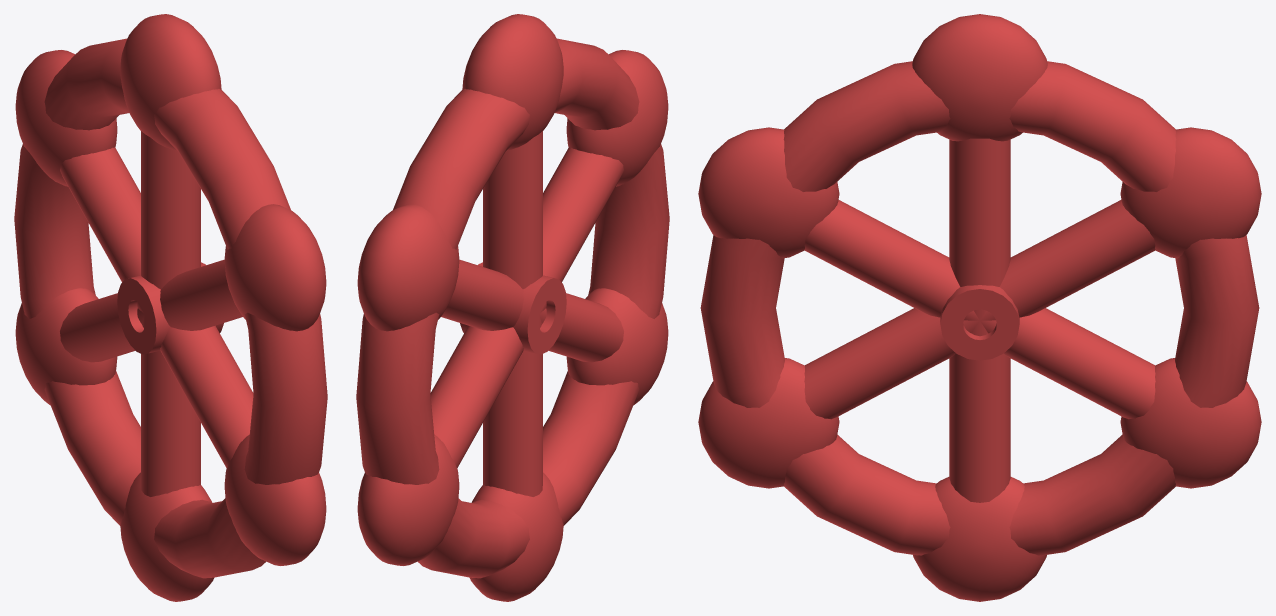
Rendered from Valve.fbx.
3 views of the same model, side by side, from view 1: azimuth 30°, elevation 25°; view 2: azimuth 150°, elevation 25°; view 3: azimuth 270°, elevation 25° (orthographic).
Visible parts, largest first — view 1: pTorus1, pCylinder2, pCylinder3, pSphere5, pSphere1, pSphere6, pCylinder1, pSphere4, pSphere3, pSphere7, pPipe1; view 2: pTorus1, pCylinder2, pCylinder1, pSphere4, pSphere1, pSphere7, pCylinder3, pSphere5, pSphere3, pSphere6, pPipe1; view 3: pTorus1, pCylinder1, pCylinder3, pCylinder2, pSphere1, pSphere4, pSphere5, pSphere6, pSphere7, pSphere3, pPipe1.
Part boxes in pixels (left/top/right/bottom): pTorus1: left=14, top=38, right=327, bottom=578; pCylinder2: left=141, top=131, right=200, bottom=496; pCylinder3: left=60, top=147, right=253, bottom=467; pSphere5: left=224, top=204, right=326, bottom=331; pSphere1: left=120, top=14, right=221, bottom=150; pSphere6: left=224, top=435, right=326, bottom=565; pCylinder1: left=60, top=260, right=242, bottom=362; pSphere4: left=15, top=50, right=117, bottom=186; pSphere3: left=120, top=472, right=213, bottom=601; pSphere7: left=15, top=288, right=117, bottom=405; pPipe1: left=117, top=262, right=223, bottom=354; pTorus1: left=356, top=38, right=669, bottom=578; pCylinder2: left=483, top=131, right=542, bottom=496; pCylinder1: left=430, top=147, right=623, bottom=467; pSphere4: left=357, top=204, right=459, bottom=331; pSphere1: left=462, top=14, right=563, bottom=150; pSphere7: left=357, top=435, right=459, bottom=565; pCylinder3: left=441, top=260, right=623, bottom=362; pSphere5: left=566, top=50, right=668, bottom=186; pSphere3: left=470, top=472, right=563, bottom=601; pSphere6: left=566, top=288, right=668, bottom=405; pPipe1: left=460, top=262, right=566, bottom=354; pTorus1: left=700, top=61, right=1259, bottom=555; pCylinder1: left=804, top=200, right=1155, bottom=419; pCylinder3: left=804, top=200, right=1155, bottom=419; pCylinder2: left=949, top=138, right=1010, bottom=502; pSphere1: left=912, top=14, right=1047, bottom=141; pSphere4: left=1120, top=127, right=1261, bottom=258; pSphere5: left=698, top=127, right=839, bottom=258; pSphere6: left=698, top=358, right=839, bottom=488; pSphere7: left=1120, top=358, right=1261, bottom=488; pSphere3: left=913, top=477, right=1046, bottom=601; pPipe1: left=940, top=285, right=1019, bottom=360.
Size of the model in its own units: 1.15 by 8.53 by 7.47.
